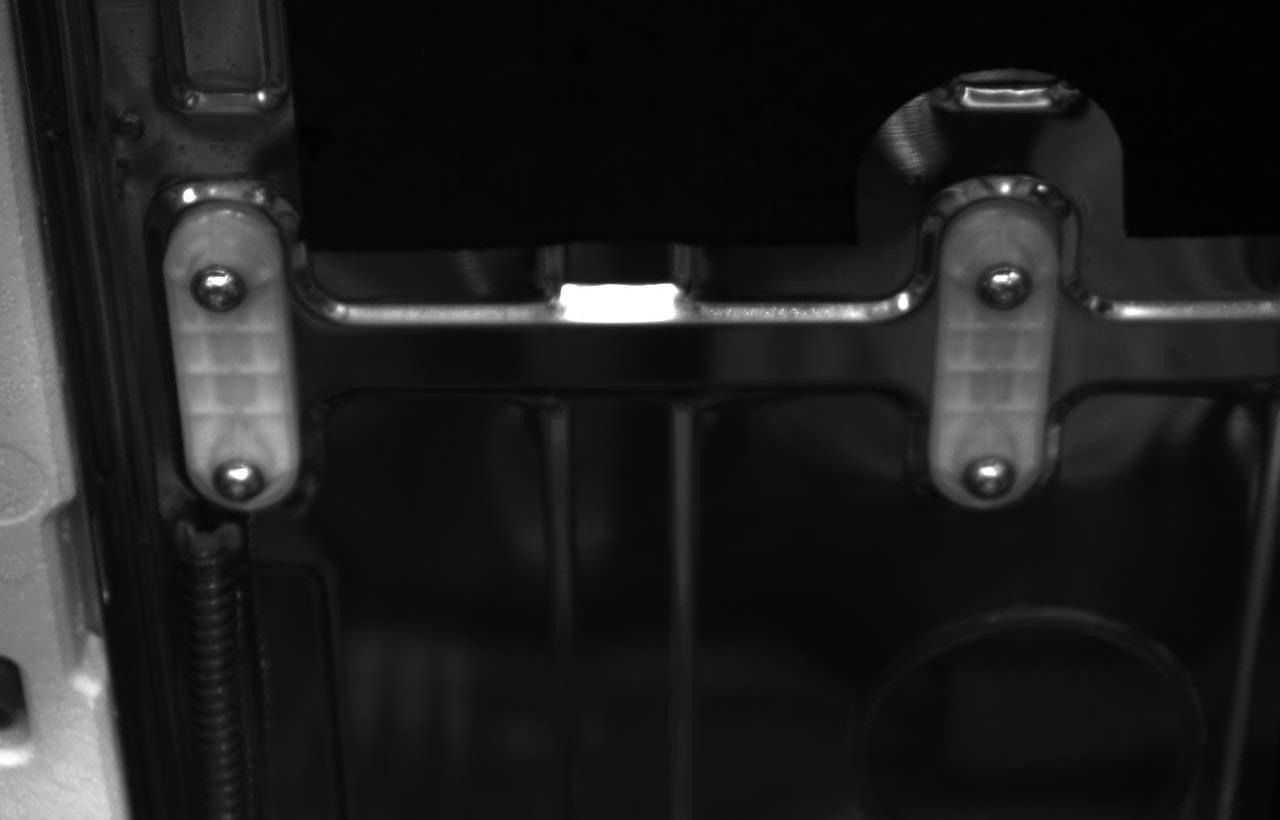vida-ok: (184, 255, 256, 322), (961, 442, 1027, 511), (976, 255, 1043, 322), (207, 454, 273, 512)
